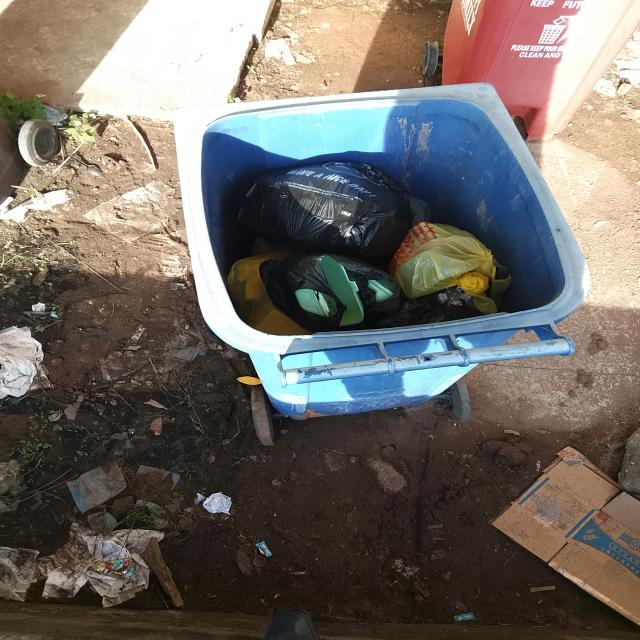half-full: (191, 82, 574, 338)
